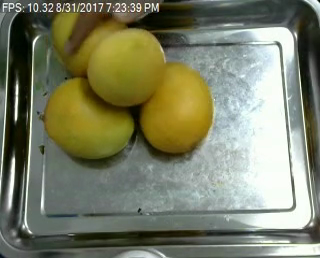Mango: (45, 76, 136, 159), (137, 61, 213, 149), (86, 27, 164, 104), (50, 6, 124, 76)
